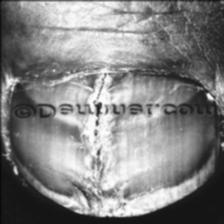Toxin: (70, 74, 124, 210)
